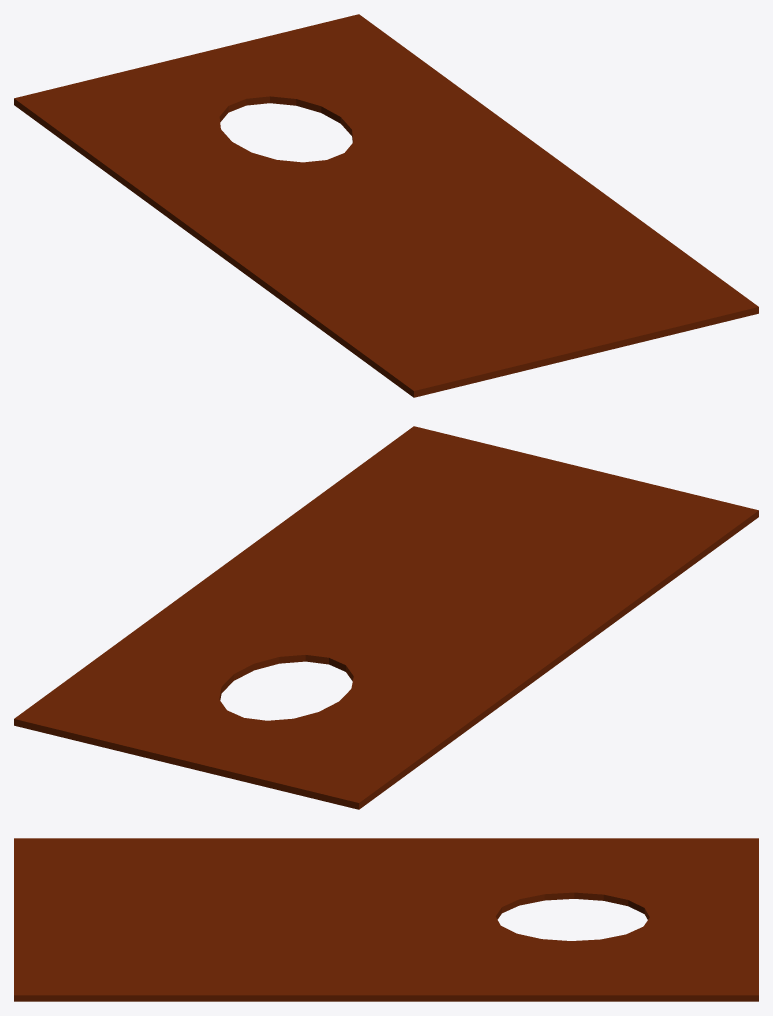
File: church floor.fbx
3 renders of one model, top to bottom at view 1: azimuth 30°, elevation 25°; view 2: azimuth 150°, elevation 25°; view 3: azimuth 270°, elevation 25°, orthographic. The views are drawn at different scales.
Visible parts, largest first — view 1: Plane; view 2: Plane; view 3: Plane.
Boxes of the visible parts, left/top/right/bottom form: Plane: left=14, top=14, right=758, bottom=397; Plane: left=14, top=426, right=758, bottom=809; Plane: left=14, top=838, right=758, bottom=1001.
Bounding box in the file's own units: 2403 × 45.1 × 4824.
